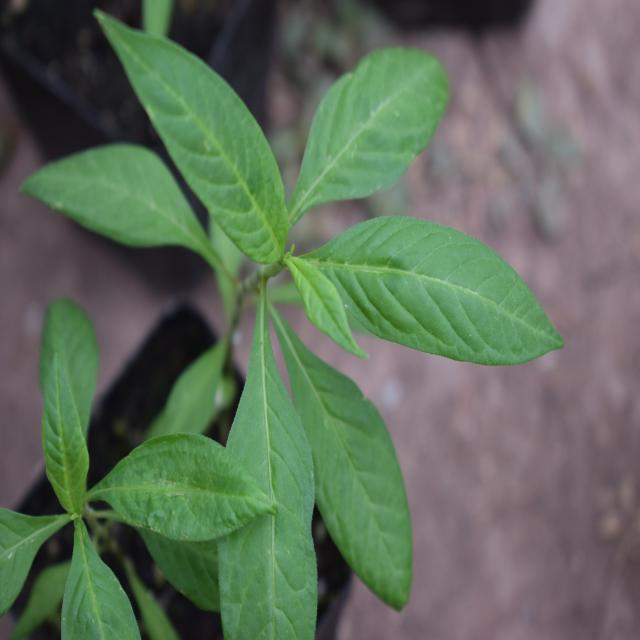white_smart_weed: (117, 26, 523, 632)
